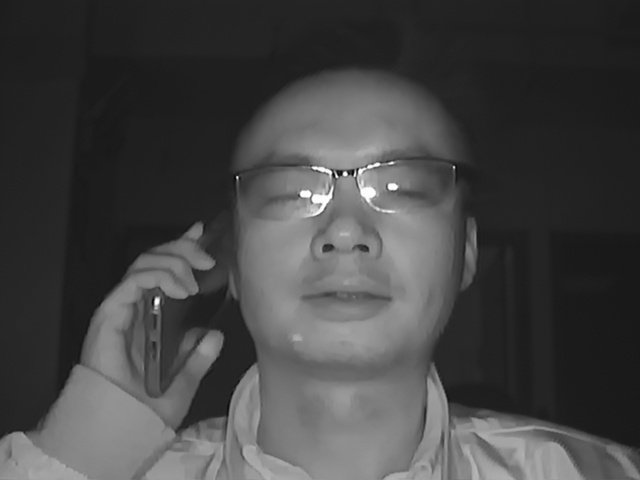hand: (83, 231, 220, 414)
